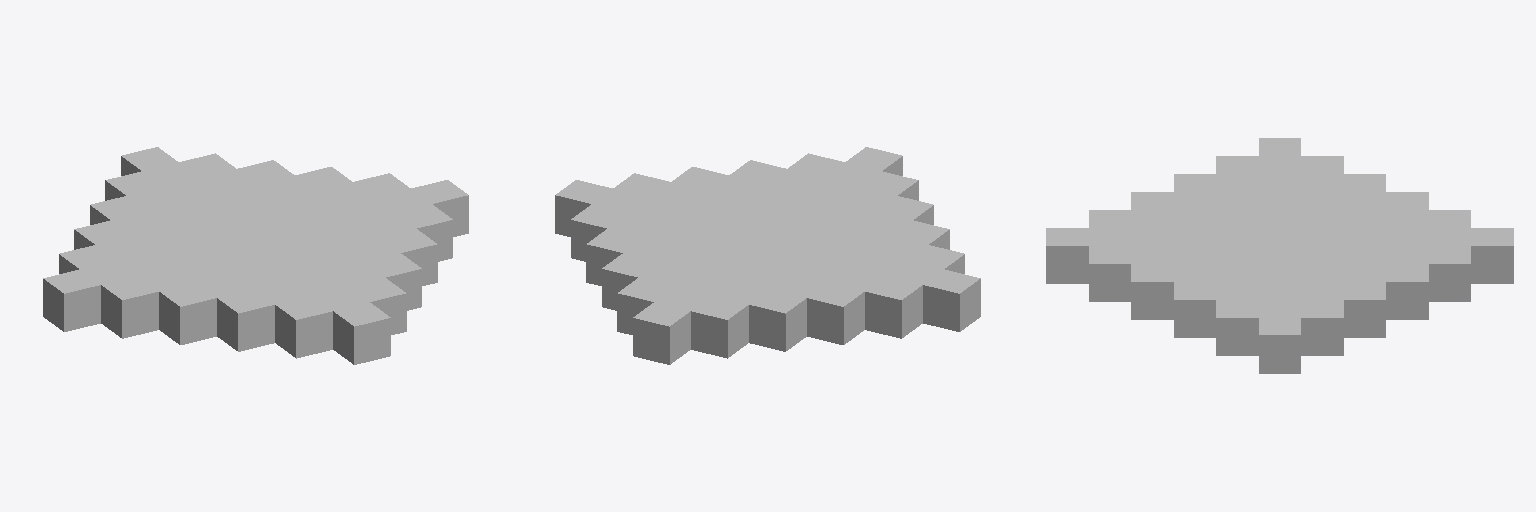
File: StarBonus.obj
3 renders of one model, left to right at view 1: azimuth 30°, elevation 25°; view 2: azimuth 150°, elevation 25°; view 3: azimuth 270°, elevation 25°, orthographic.
Parts seen in each view (by area): view 1: object 1; view 2: object 1; view 3: object 1.
Part boxes in pixels (x1,y1,x2,y2): object 1: (43, 147, 468, 364); object 1: (555, 147, 980, 364); object 1: (1046, 138, 1513, 373).
Size of the model in its own units: 1.1 by 0.1 by 1.1.